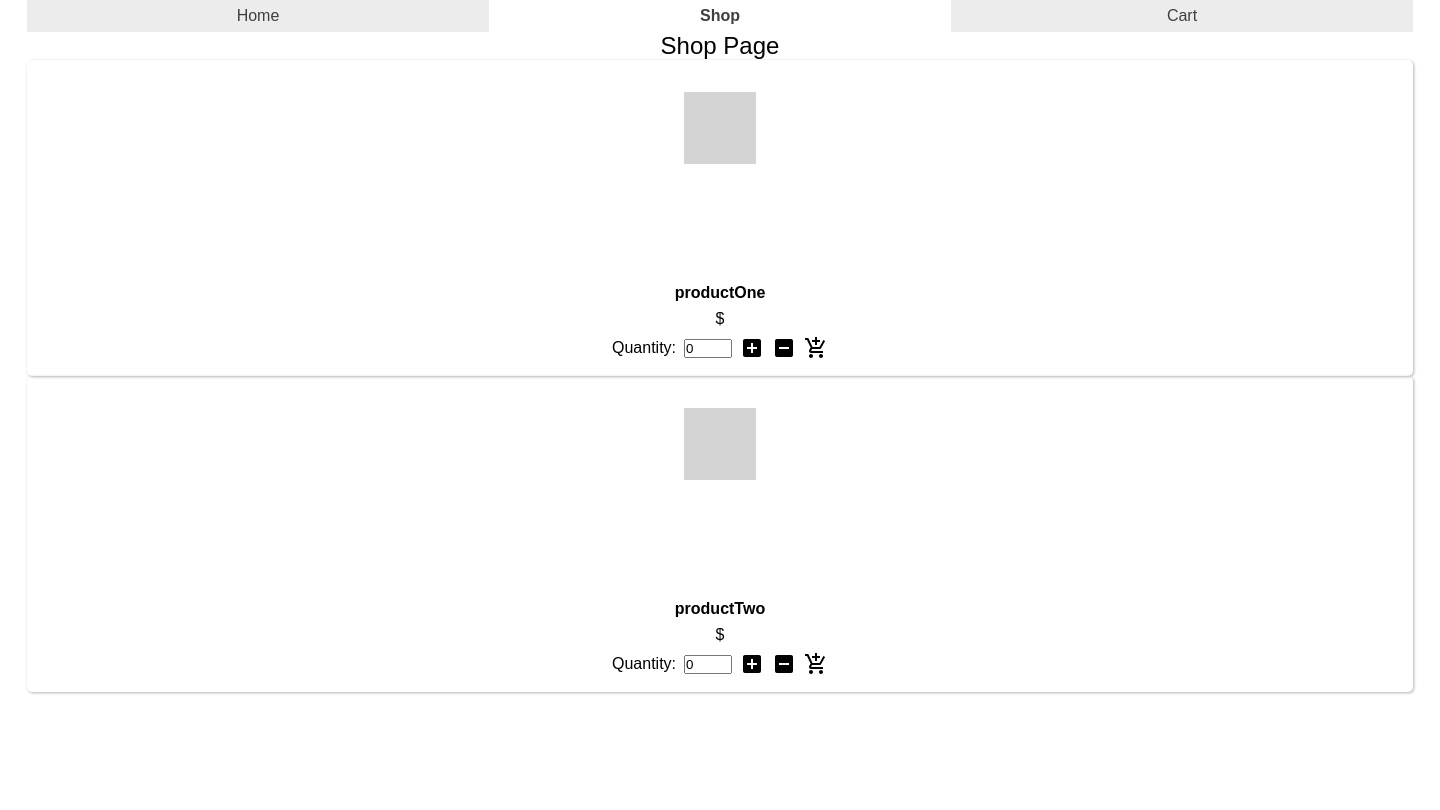
Test: Main Component › Shop Route › display how many items in cart on navbar
Expected: the link "Cart" does not show "0", top-left (1167, 7), bottom-right (1197, 24)
Click the 3rd button named "add to cart" at (816, 348), box top-left (804, 336), bottom-right (828, 360)
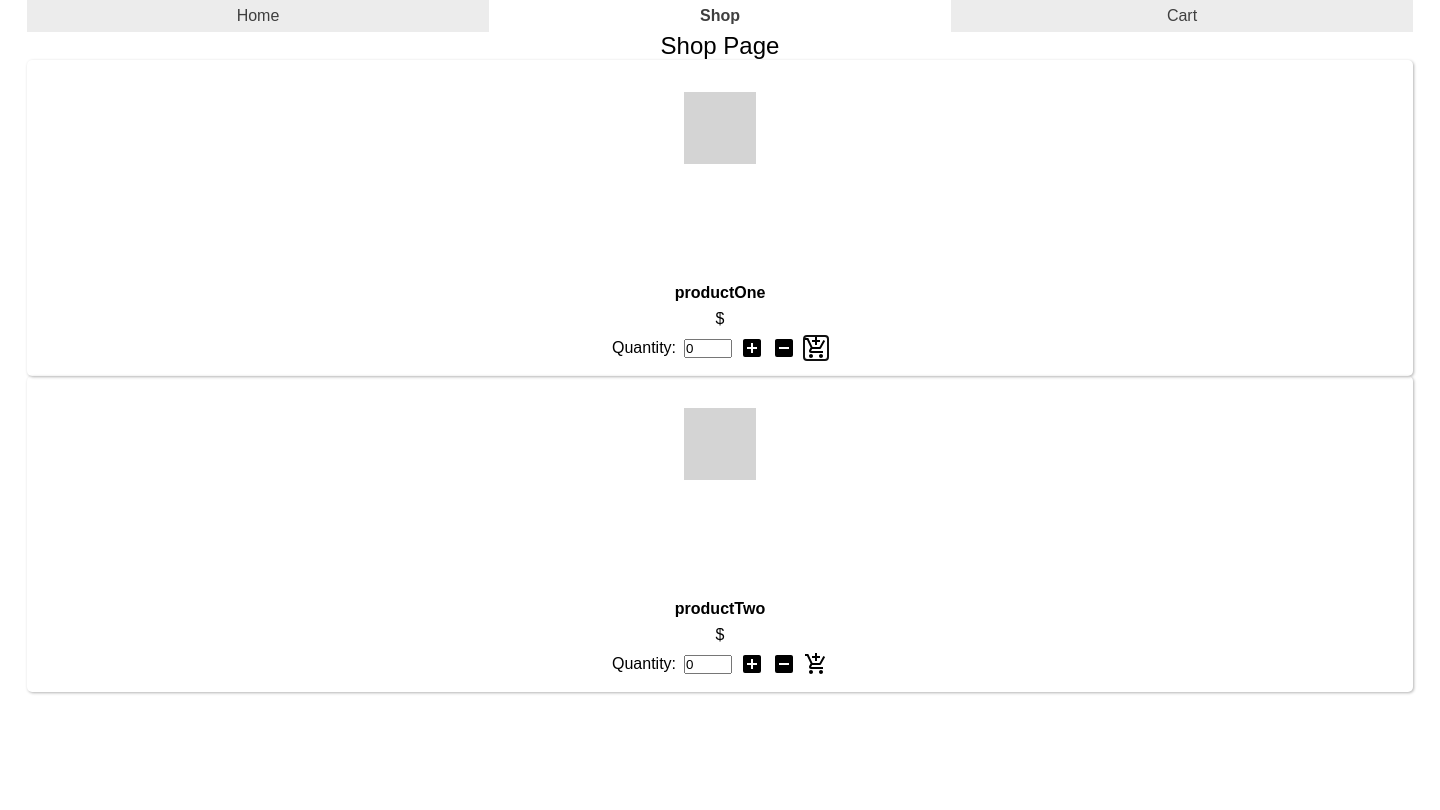
Expected: the link "Cart" does not show "1", top-left (1167, 7), bottom-right (1197, 24)
Click the 1st button named "plus" at (752, 348), box top-left (740, 336), bottom-right (764, 360)
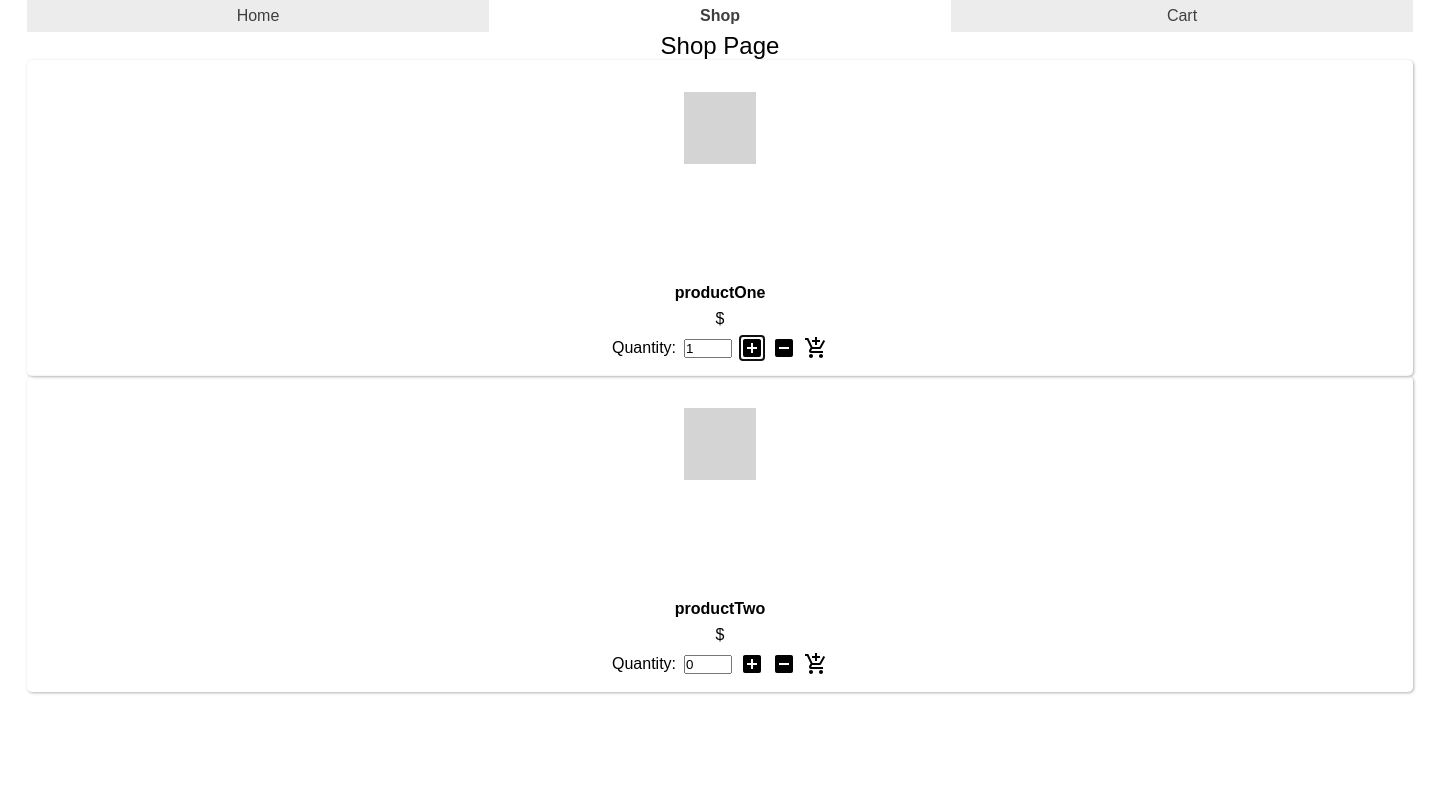
Click the 3rd button named "add to cart" at (816, 348), box top-left (804, 336), bottom-right (828, 360)
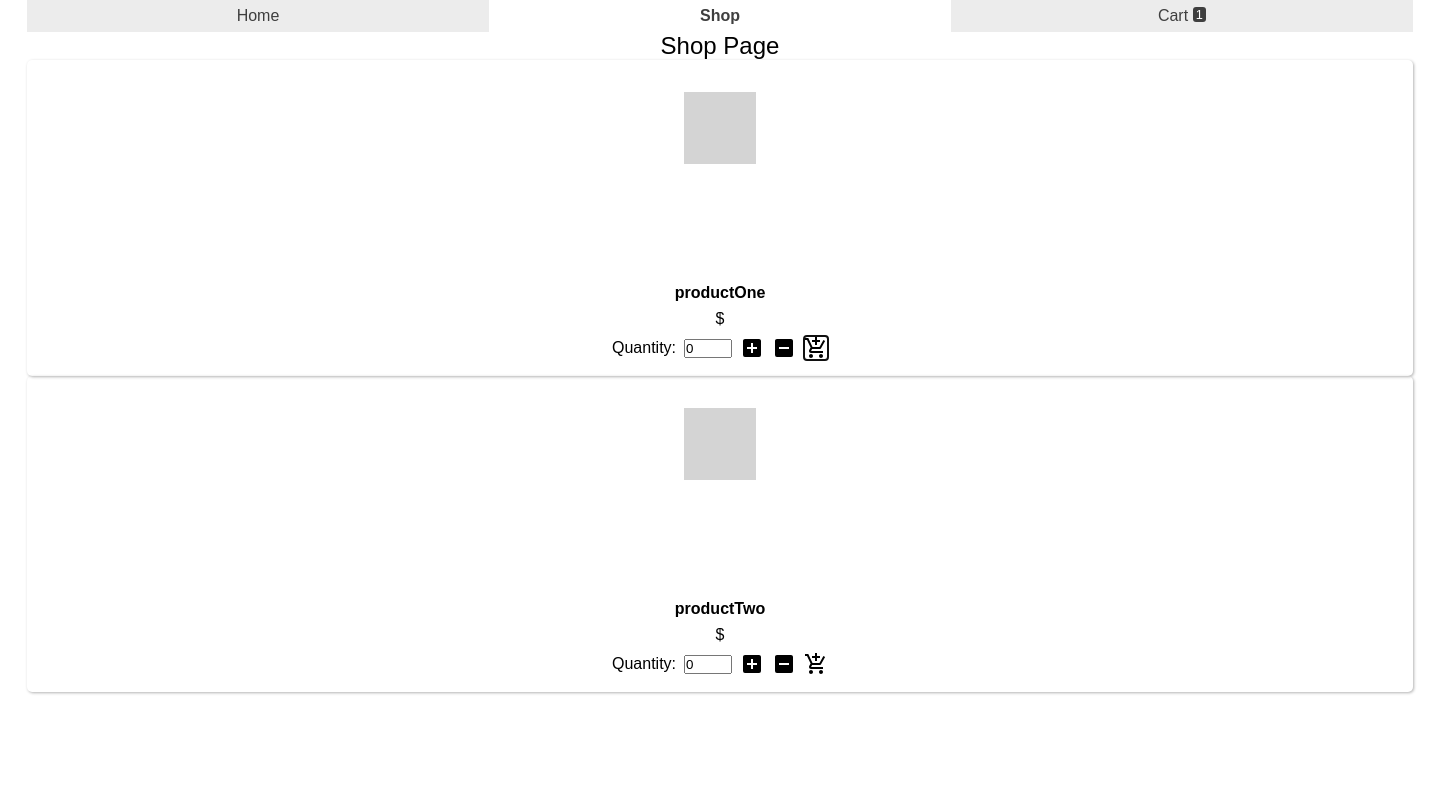
Now the link "Cart 1" is shown, box top-left (1158, 7), bottom-right (1206, 24)
